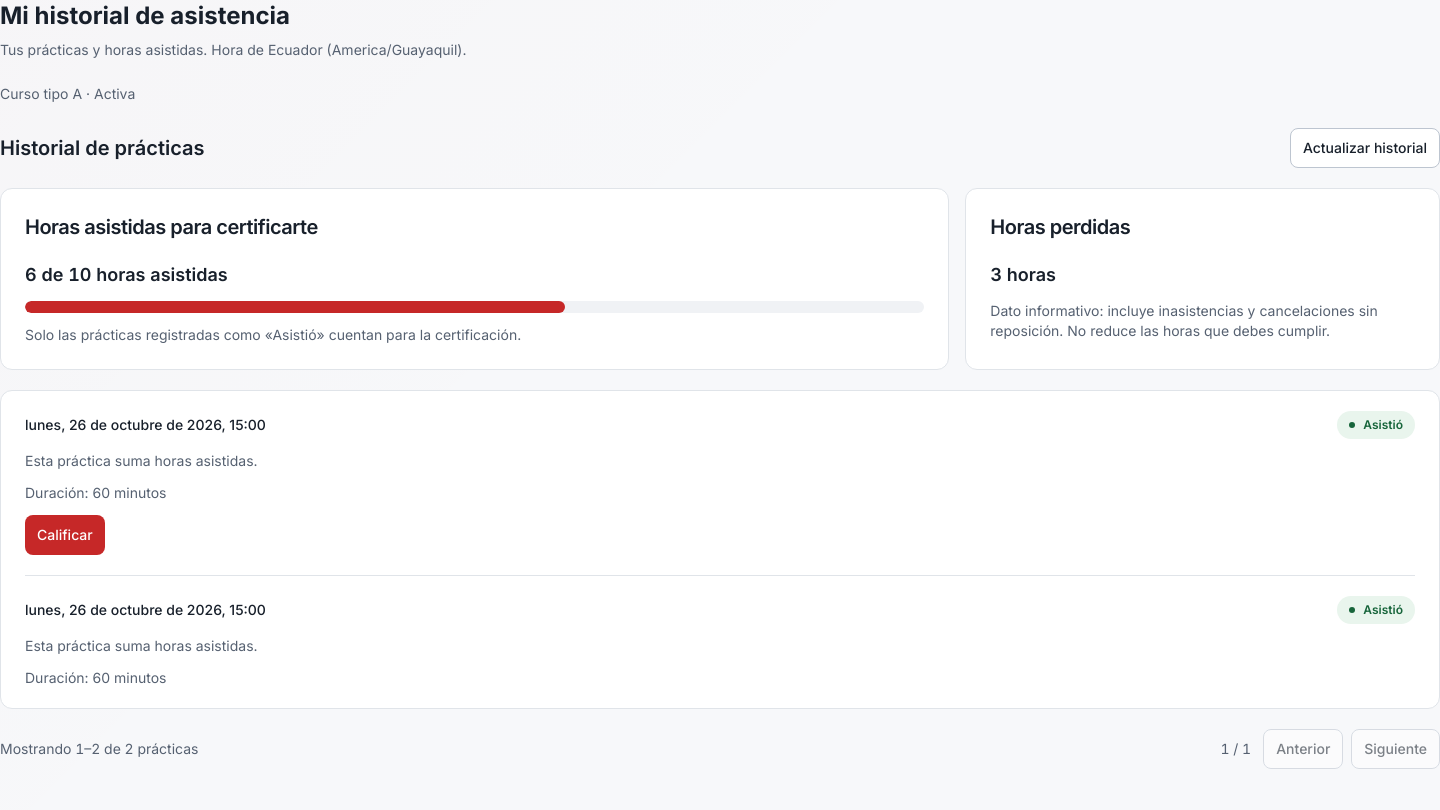
Test: historial de asistencia del alumno E4 › ofrece Calificar solo si la lista de pendientes confirma la práctica
Click the button "Calificar".
click(65, 535)  # box [25,515,105,555]
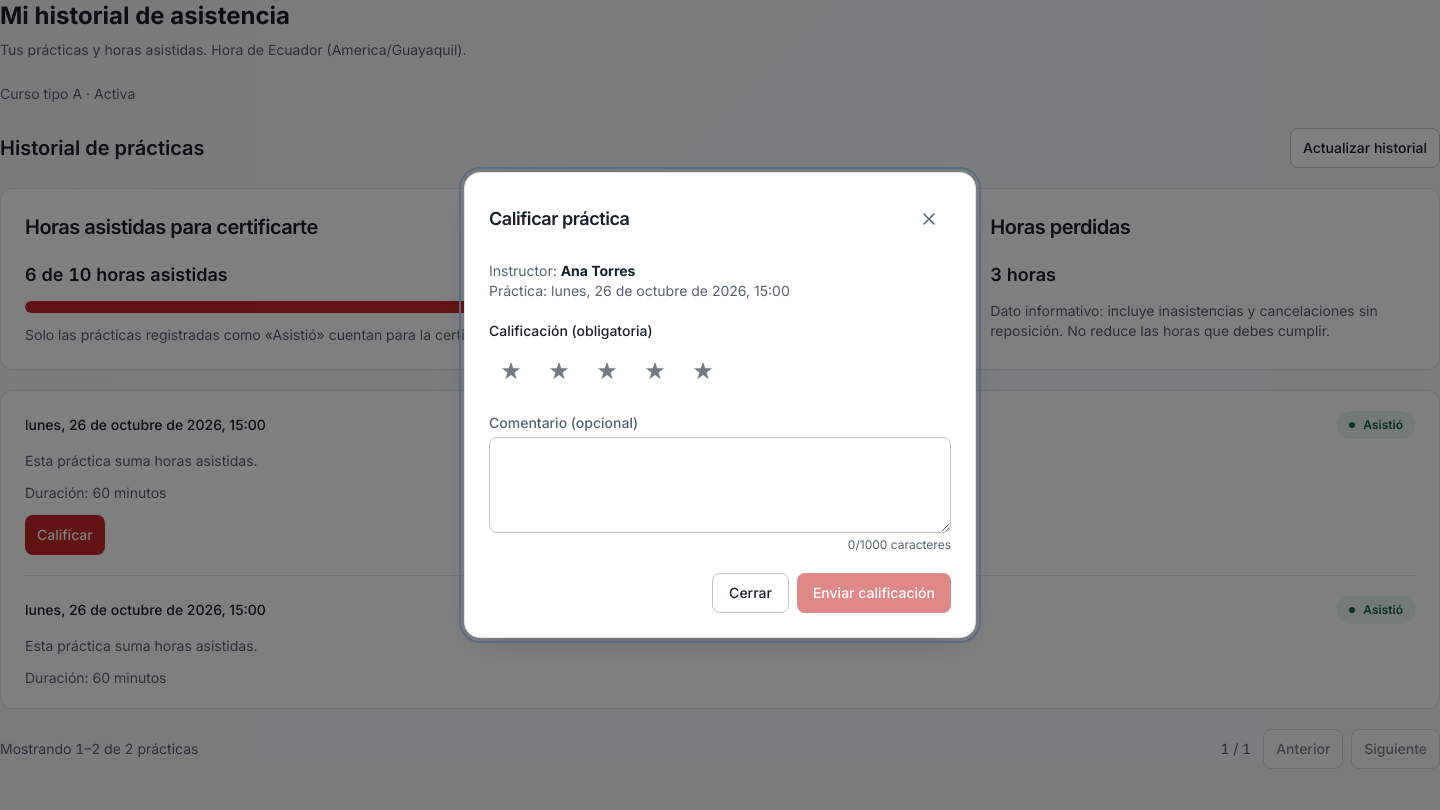
Result: the dialog "Calificar práctica" is shown at [464,172,976,638]
